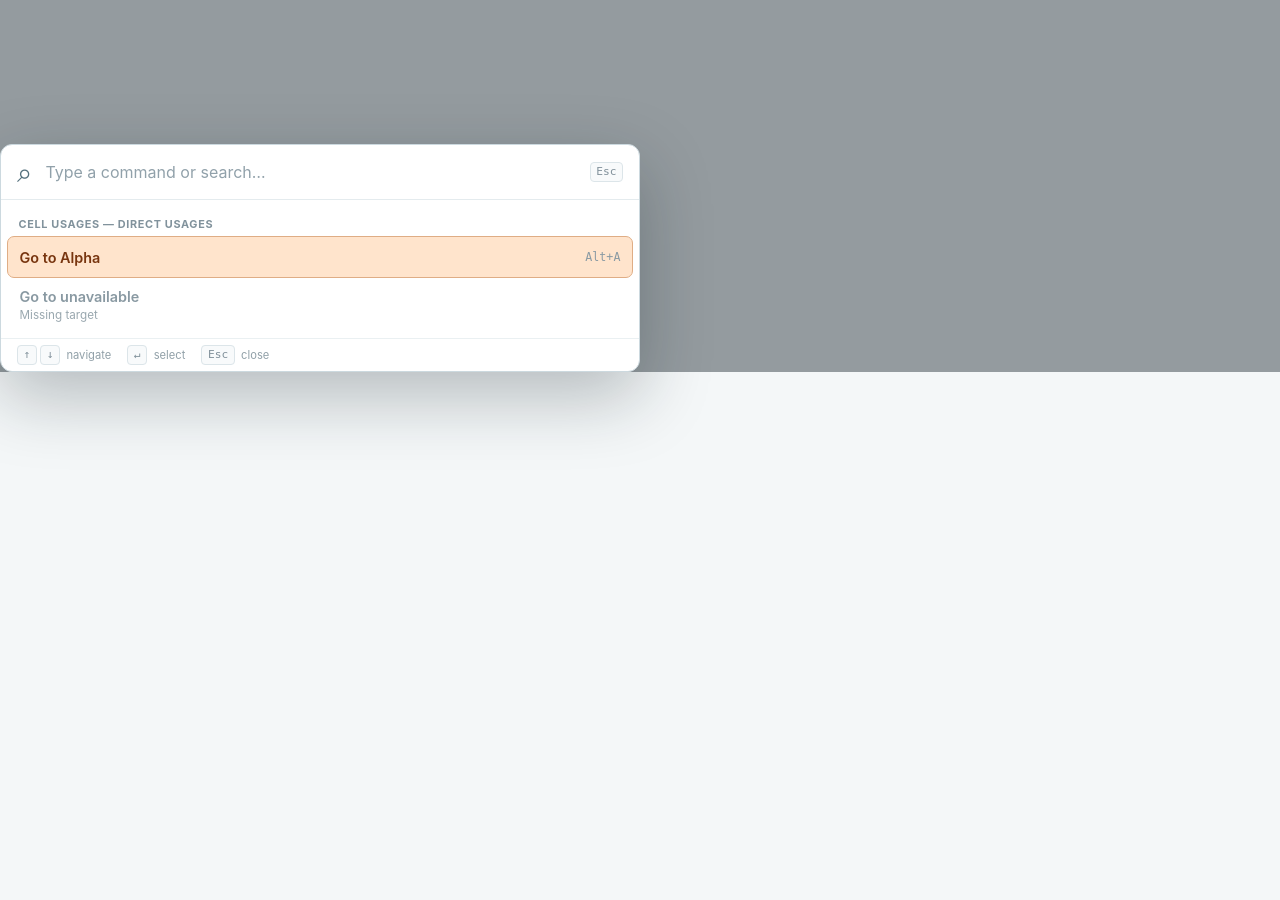
Test: NavigationPalette › filters labelled commands, skips unavailable results, and supports keyboard selection and cancellation
The image size is (1280, 900).
Type "alpha" into the dropdown named "Command search" at (311, 172), box [43,161,578,183]
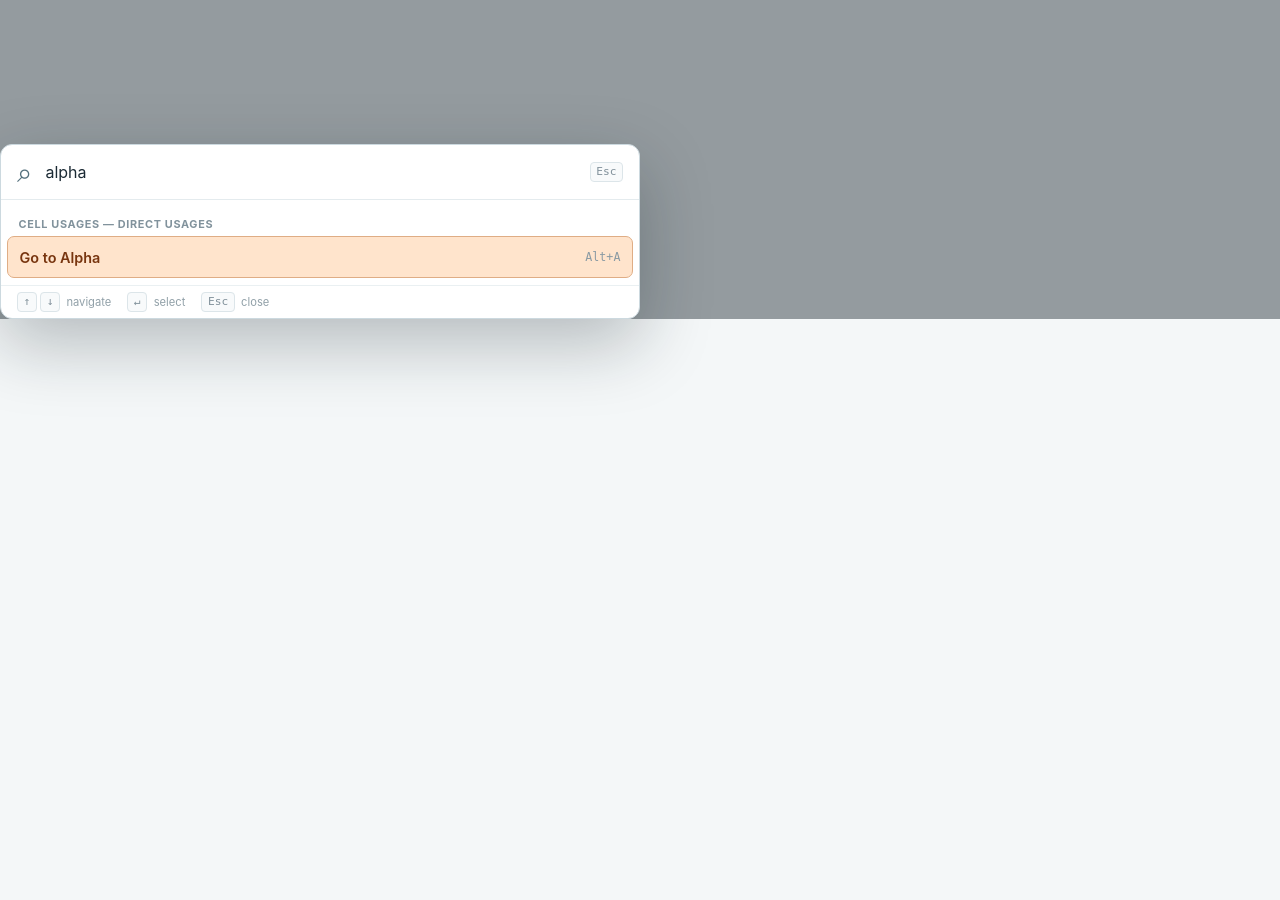
Press Arrowdown Arrowup Enter
Expected: the text "Alt+A" is shown, [585,250,620,264]
Expected: the text "Cell usages — Direct usages" is shown, [19,217,213,231]
Clear the dropdown named "Command search" at (311, 172), box [43,161,578,183]
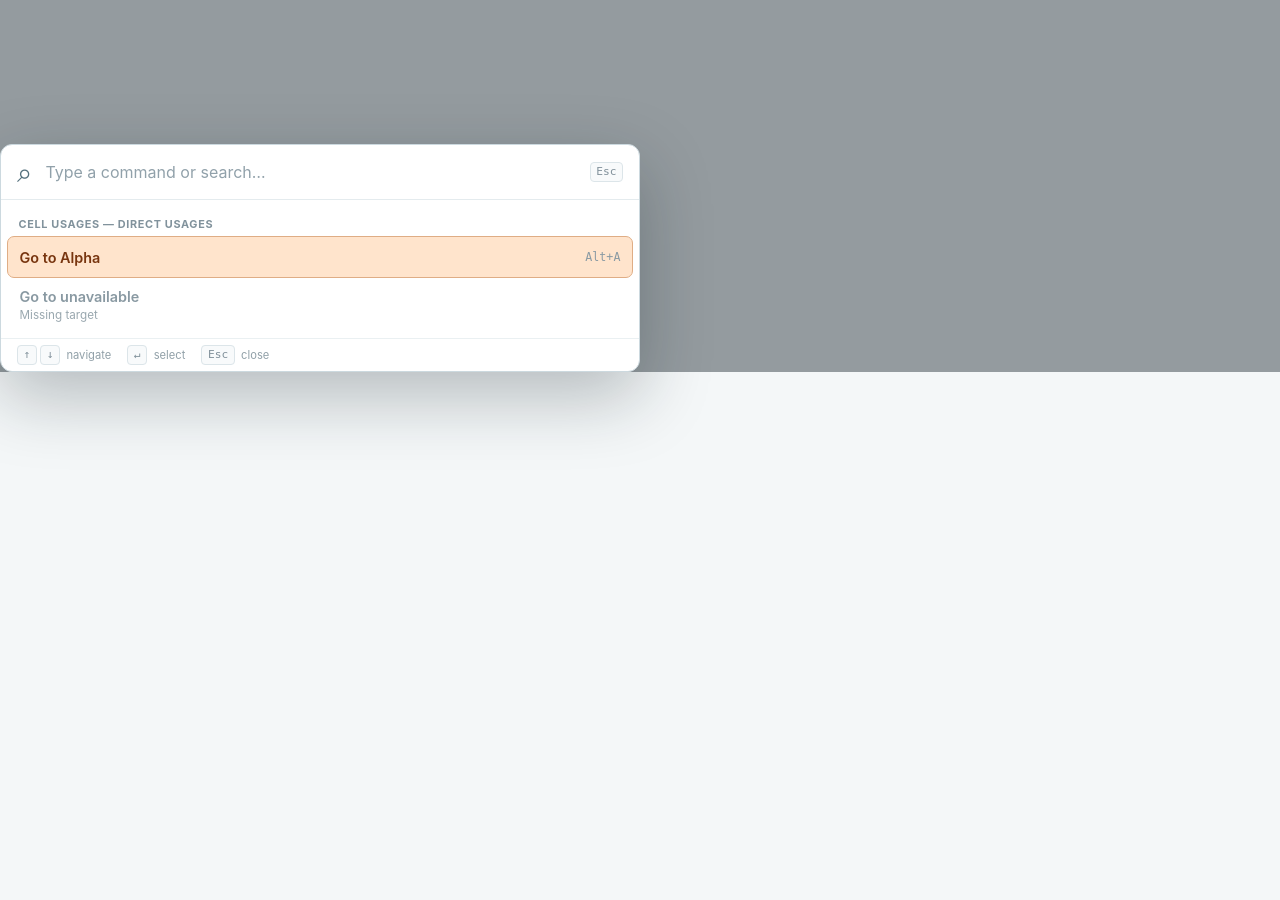
Press Arrowdown Enter Escape
Type "nothing" into the dropdown named "Command search" at (311, 172), box [43,161,578,183]
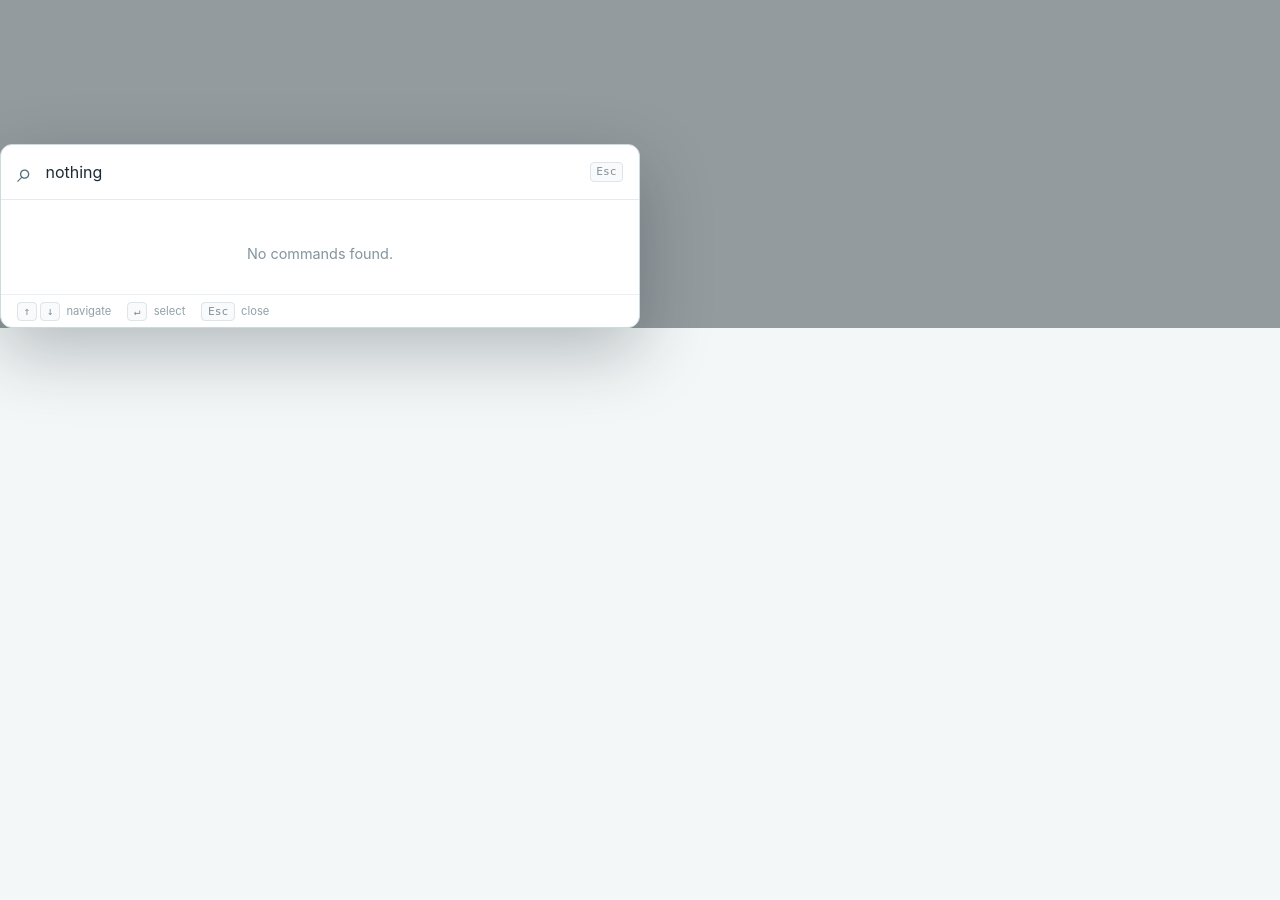
Expected: the text "No commands found." is shown, [247,245,393,262]
